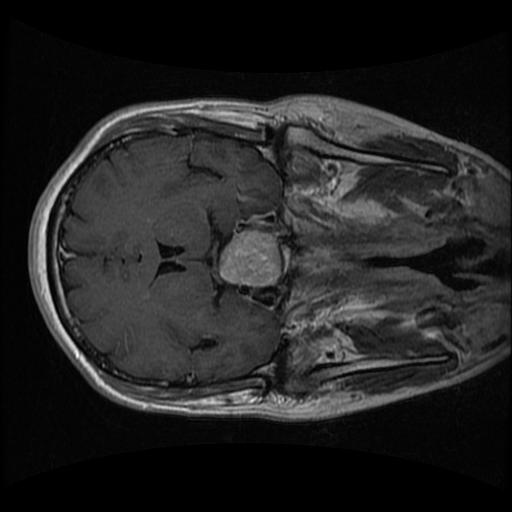pituitary tumour: (217, 229, 281, 286)
